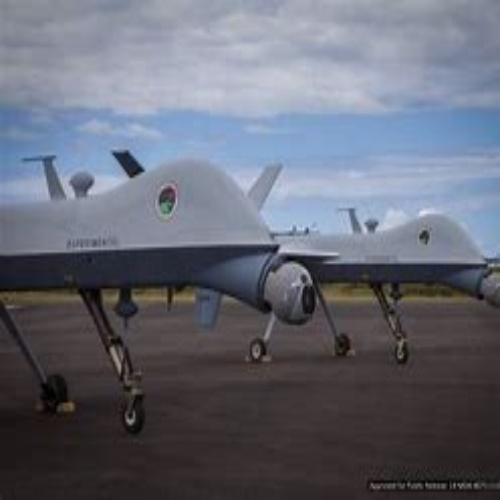uav534: (2, 153, 277, 422), (281, 204, 493, 369)
